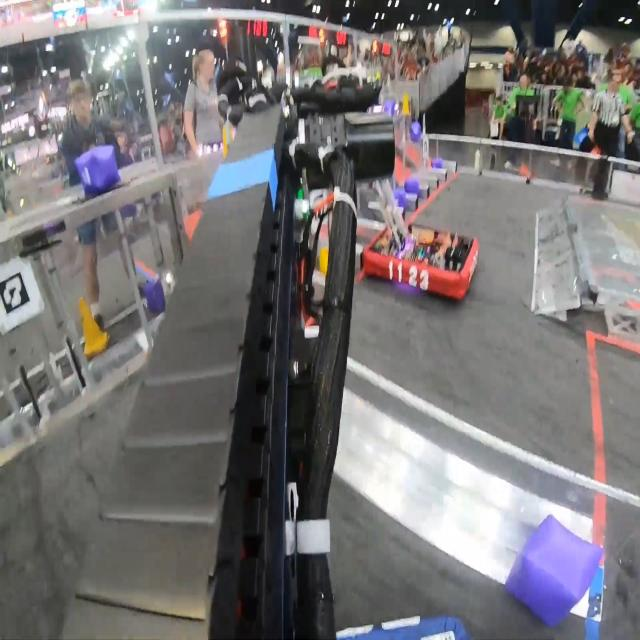robot: (361, 180, 480, 302)
